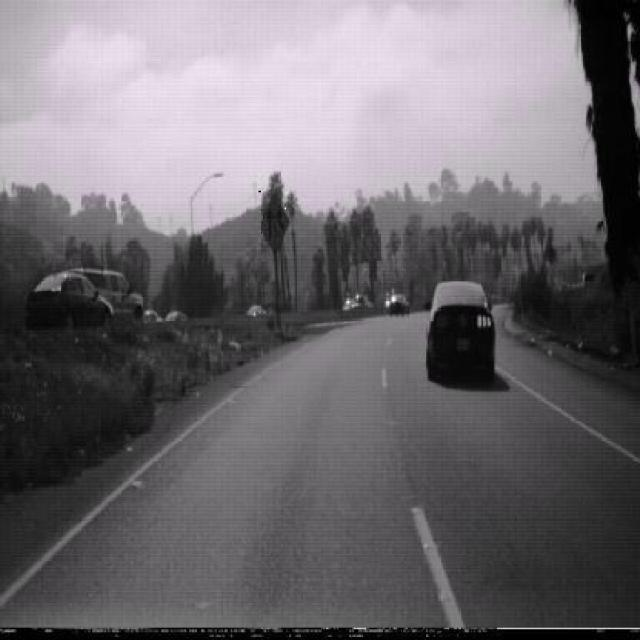addedLane: (260, 191, 291, 255)
